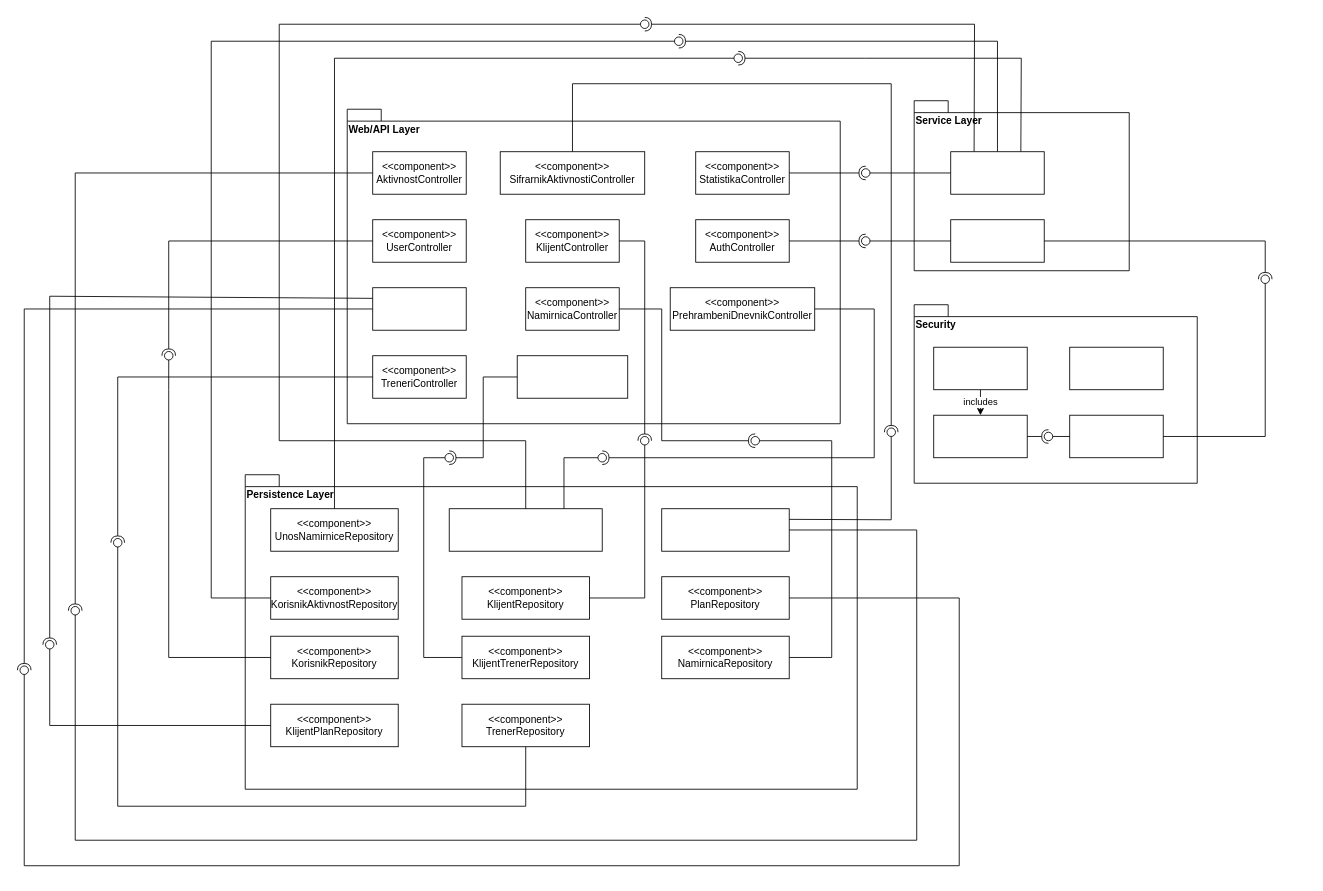
Some shapes in this 1323 by 891 pixel diagram are drawn without their labels. The centre of each missing label's shape, as x and y in pixels:
"<<component>> AktivnostRepository" goes at (725,529).
"<<component>> AuthService" goes at (997,240).
"<<component>> JwtAuthFilter" goes at (980,436).
"<<component>> JwtService" goes at (1116,436).
"<<component>> KlijentTrenerController" goes at (572,376).
"<<component>> PasswordConfig" goes at (1116,368).
"<<component>> PlanController" goes at (419,308).
"<<component>> PrehrambeniDnevnikRepository" goes at (525,529).
"<<component>> SecurityConfig" goes at (980,368).
"<<component>> StatistikaService" goes at (997,172).
